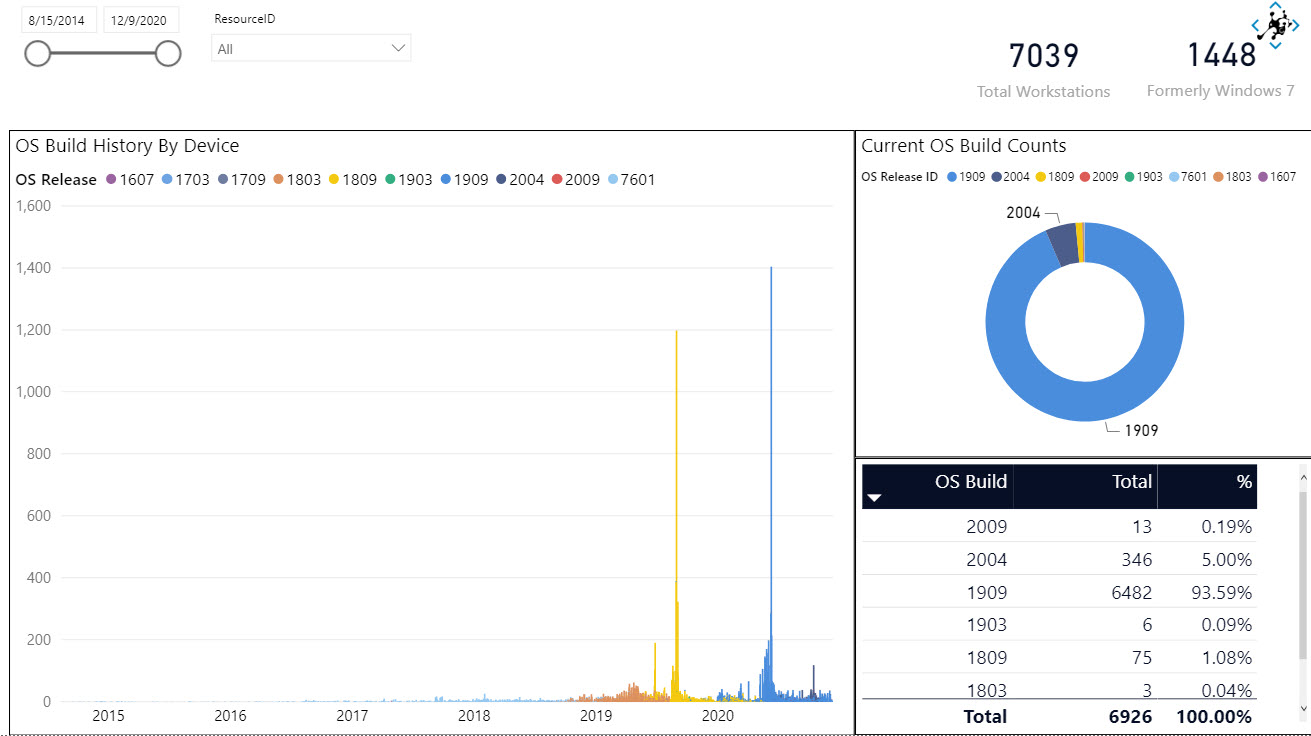

This screenshot's page, from the dashboard's own definition file:
{"tool":"powerbi","page":{"name":"OS History","canvas":[1280,720],"ordinal":1},"visuals":[{"type":"columnChart","title":"OS Build History By Device","fields":{"Category":["Calendar.Date","SCCM_v_GS_CM_OSVERSIONHISTORY.ProductName"],"Y":["CountNonNull(SCCM_v_R_System.ResourceID)"],"Series":["v_GS_CM_OSVERSIONHISTORY.DisplayVersion"]},"box":[9.4,130.3,824.3,589.8],"z":0},{"type":"donutChart","title":"Current OS Build Counts","fields":{"Category":["v_GS_CM_OSVERSIONHISTORY.DisplayVersion"],"Y":["CountNonNull(SCCM_v_R_System.ResourceID)"]},"box":[833.5,130.8,446.5,318.9],"z":1000},{"type":"slicer","fields":{"Values":["Calendar.Date"]},"box":[9,0,176.6,87],"z":2000},{"type":"card","fields":{"Values":["CountNonNull(SCCM_v_R_System.ResourceID)"]},"box":[1100.9,0,179.1,130.3],"z":3000},{"type":"card","fields":{"Values":["CountNonNull(SCCM_v_R_System.ResourceID)"]},"box":[935.7,0,165.1,130.6],"z":4000},{"type":"tableEx","fields":{"Values":["OSBuildType.DisplayVersion","CountNonNull(SCCM_OSBuildType.ResourceID)","Divide(CountNonNull(SCCM_OSBuildType.ResourceID), ScopedEval(CountNonNull(SCCM_OSBuildType.ResourceID), []))"]},"box":[833.6,450.1,446.4,270.1],"z":5000},{"type":"slicer","fields":{"Values":["SCCM_v_R_System.ResourceID"]},"box":[196.9,8.7,215.1,69.4],"z":6000},{"type":"image","box":[1207.6,0,72.4,56.9],"z":7000}]}

Visuals, with their boxes in screenshot pixels (x1, y1, x2, y2), scaled from the page's 1280x720 canvas onto the 1311x736 screenshot:
"OS Build History By Device" columnChart: x1=10, y1=133, x2=854, y2=735
"Current OS Build Counts" donutChart: x1=854, y1=134, x2=1310, y2=460
slicer - Calendar.Date: x1=9, y1=0, x2=190, y2=89
card - CountNonNull(SCCM_v_R_System.ResourceID): x1=1128, y1=0, x2=1310, y2=133
card - CountNonNull(SCCM_v_R_System.ResourceID): x1=958, y1=0, x2=1127, y2=134
tableEx - OSBuildType.DisplayVersion x CountNonNull(SCCM_OSBuildType.ResourceID): x1=854, y1=460, x2=1310, y2=735
slicer - SCCM_v_R_System.ResourceID: x1=202, y1=9, x2=422, y2=80
image: x1=1237, y1=0, x2=1310, y2=58
